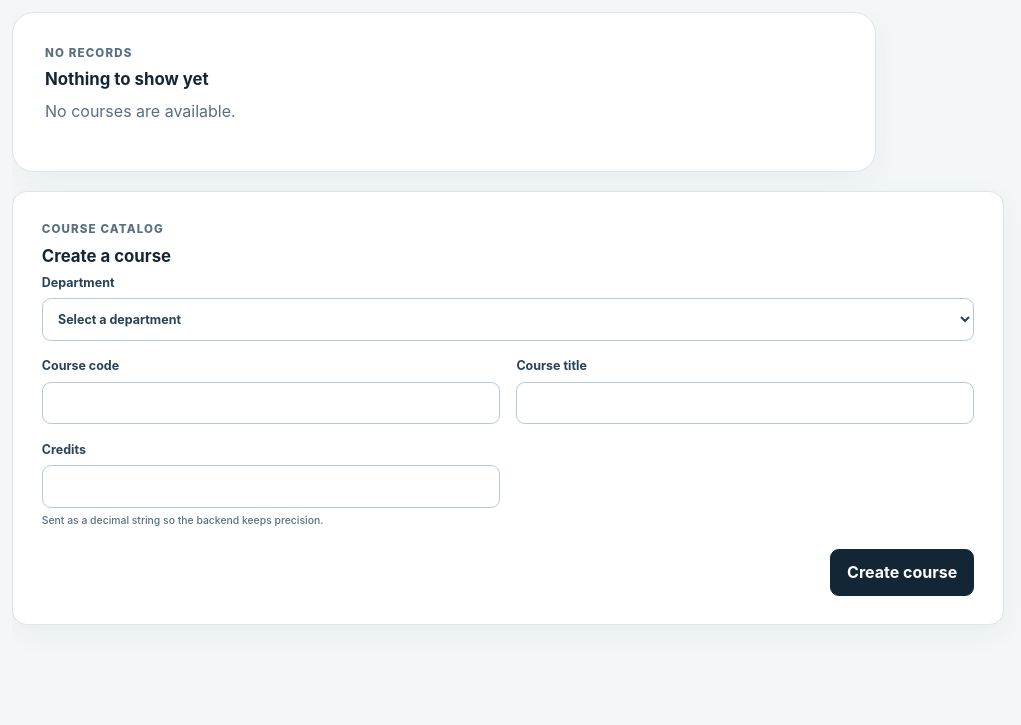
Test: CourseAdministration › creates a course with decimal credits kept as a string
Select "Computer Science" in the dropdown labelled "Department" at [508, 319], box [42,298,974,341]
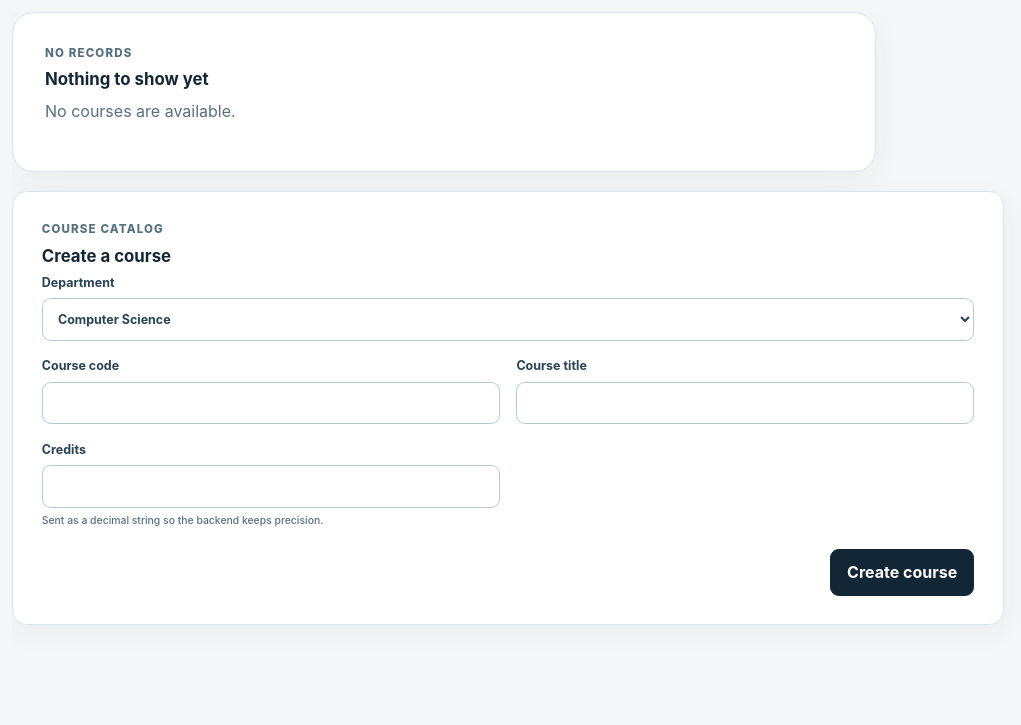
Type "CS101" into the field labelled "Course code" at [271, 403], box [42,382,500,424]
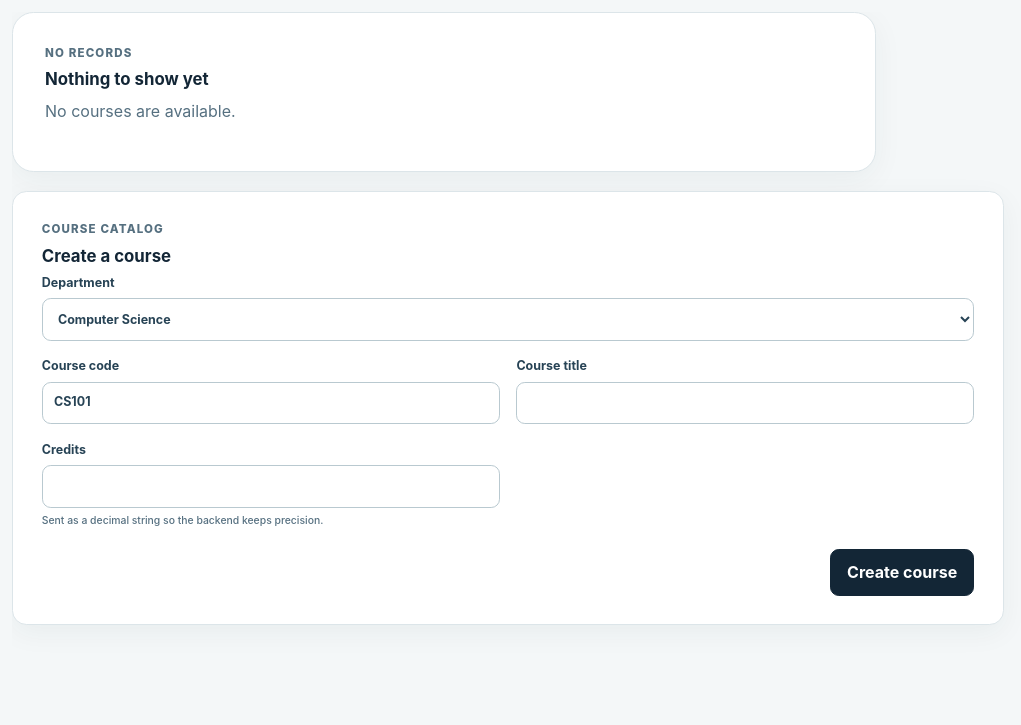
Type "Programming I" into the field labelled "Course title" at [745, 403], box [516,382,974,424]
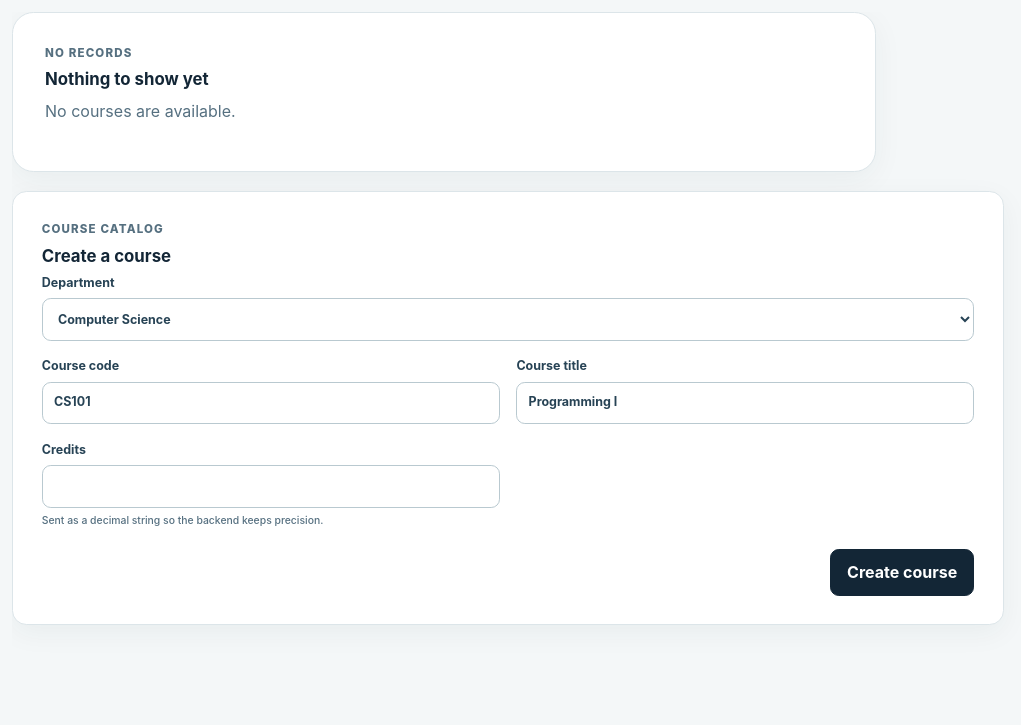
Type "6.00" into the field labelled "Credits" at [271, 486], box [42,465,500,508]
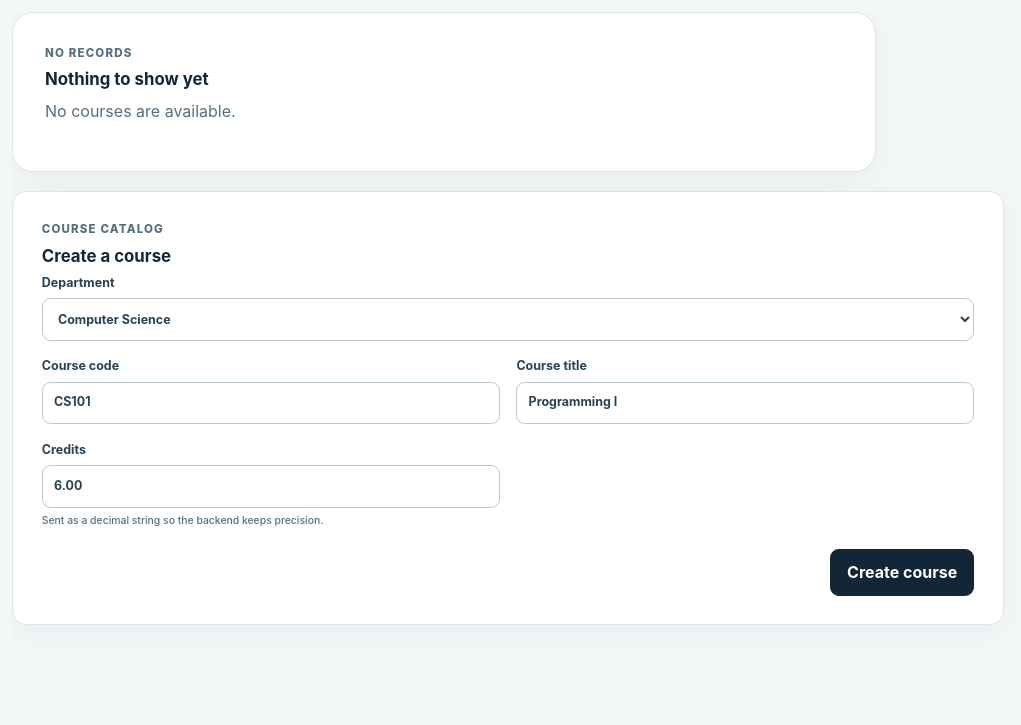
Click the button "Create course" at [902, 572], box [830,549,974,596]
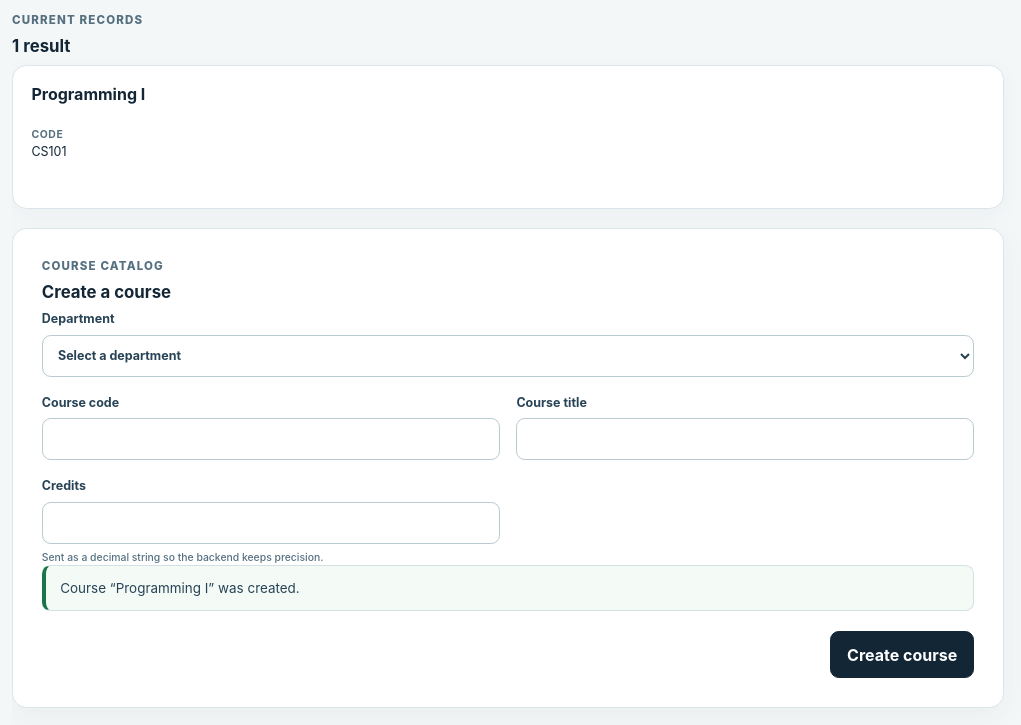
Expected: the text "Course “Programming I” was created." is shown, [42,565,974,611]
